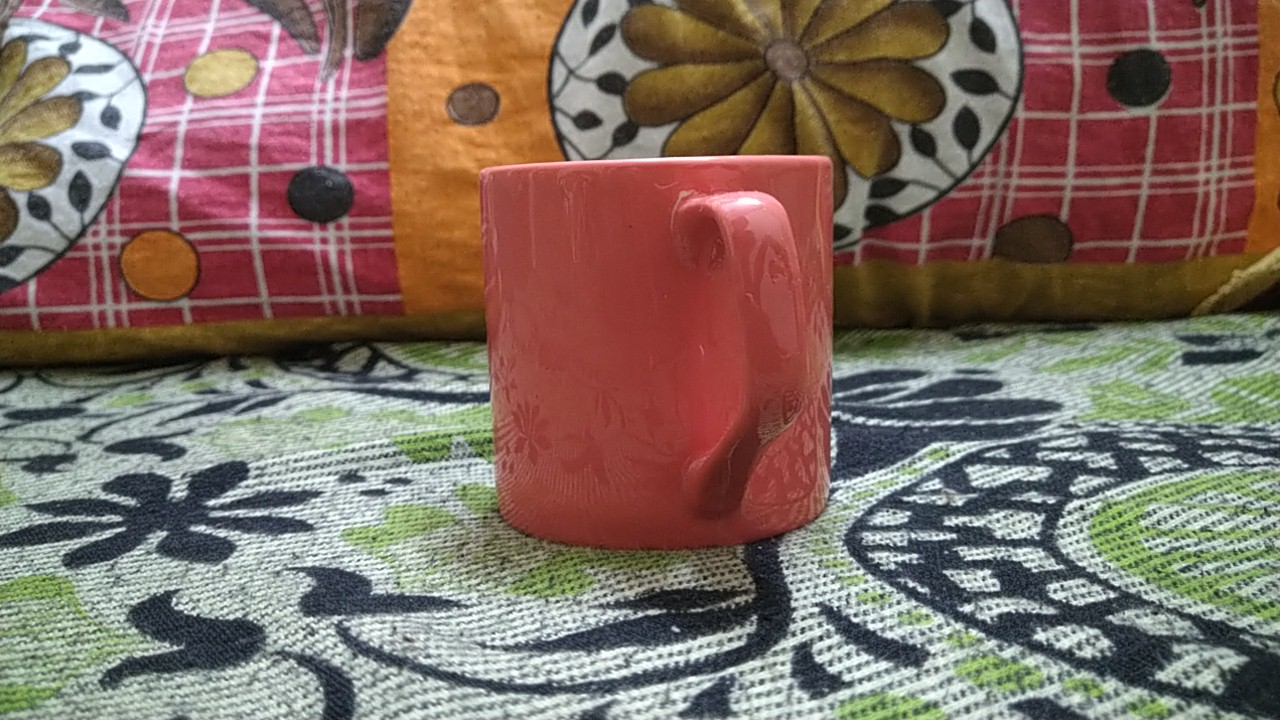cup: (462, 149, 868, 558)
